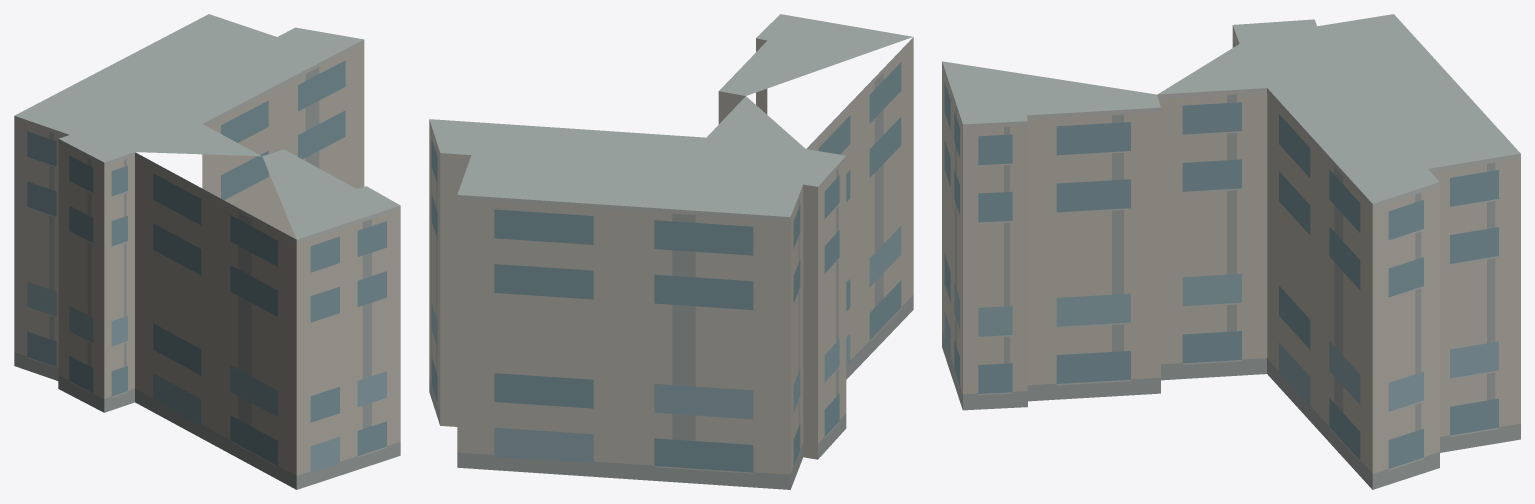
The model's file is survey-upis-32619976.glb.
3 views of the same model, side by side, from view 1: azimuth 30°, elevation 25°; view 2: azimuth 150°, elevation 25°; view 3: azimuth 270°, elevation 25° (orthographic). The views are drawn at different scales.
Parts seen in each view (by area): view 1: survey-upis-32619976.tmp; view 2: survey-upis-32619976.tmp; view 3: survey-upis-32619976.tmp.
Part boxes in pixels (x1,y1,x2,y2): survey-upis-32619976.tmp: (14,14,400,489); survey-upis-32619976.tmp: (429,14,913,489); survey-upis-32619976.tmp: (942,14,1520,489).
Size of the model in its own units: 21.73 by 15.25 by 27.98.
